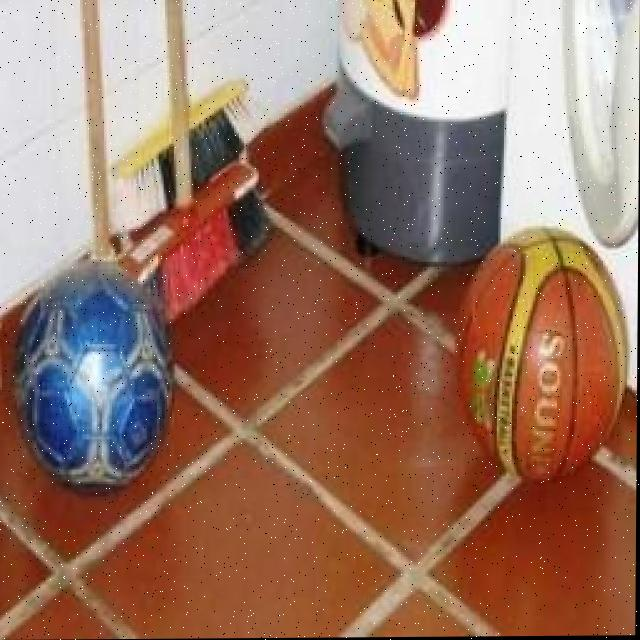Basketball: (457, 225, 627, 481)
